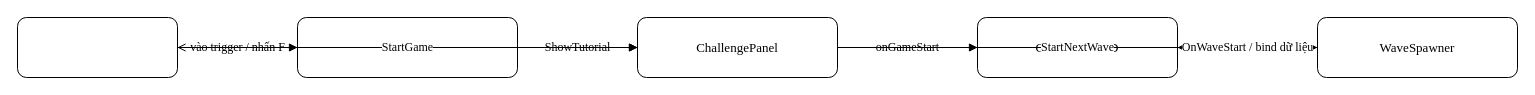
Some shapes in this 1535 by 95 pixel diagram are drawn without their labels. Each missing label, with the box of its shape:
ChallengePostNPC: (296, 16, 518, 78)
Player: (16, 16, 178, 78)
